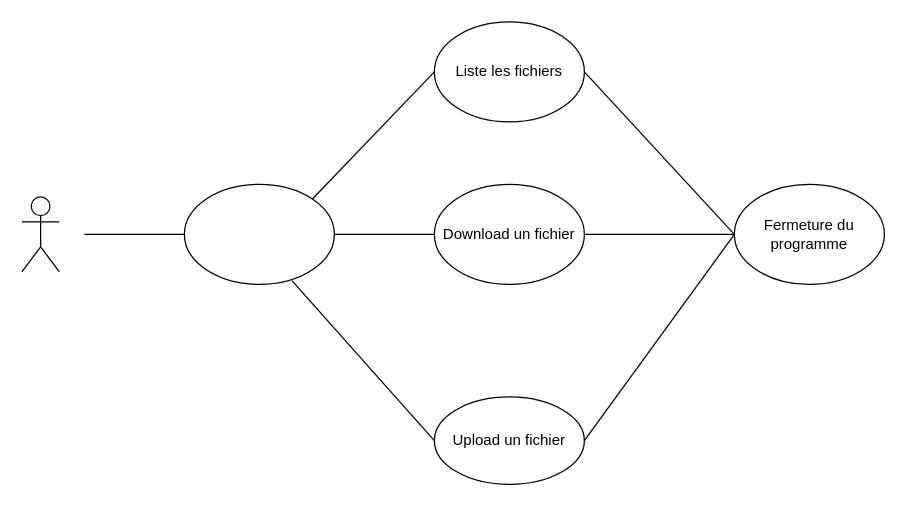
Some shapes in this 906 by 506 pixel diagram are drawn without their labels. The shapes that lost their labels are listed below. From the top down, each one's box as (x1, y1, x2, y2) in pixels, then its label:
(21, 196, 59, 272): Actor
(183, 183, 334, 284): Serveur
